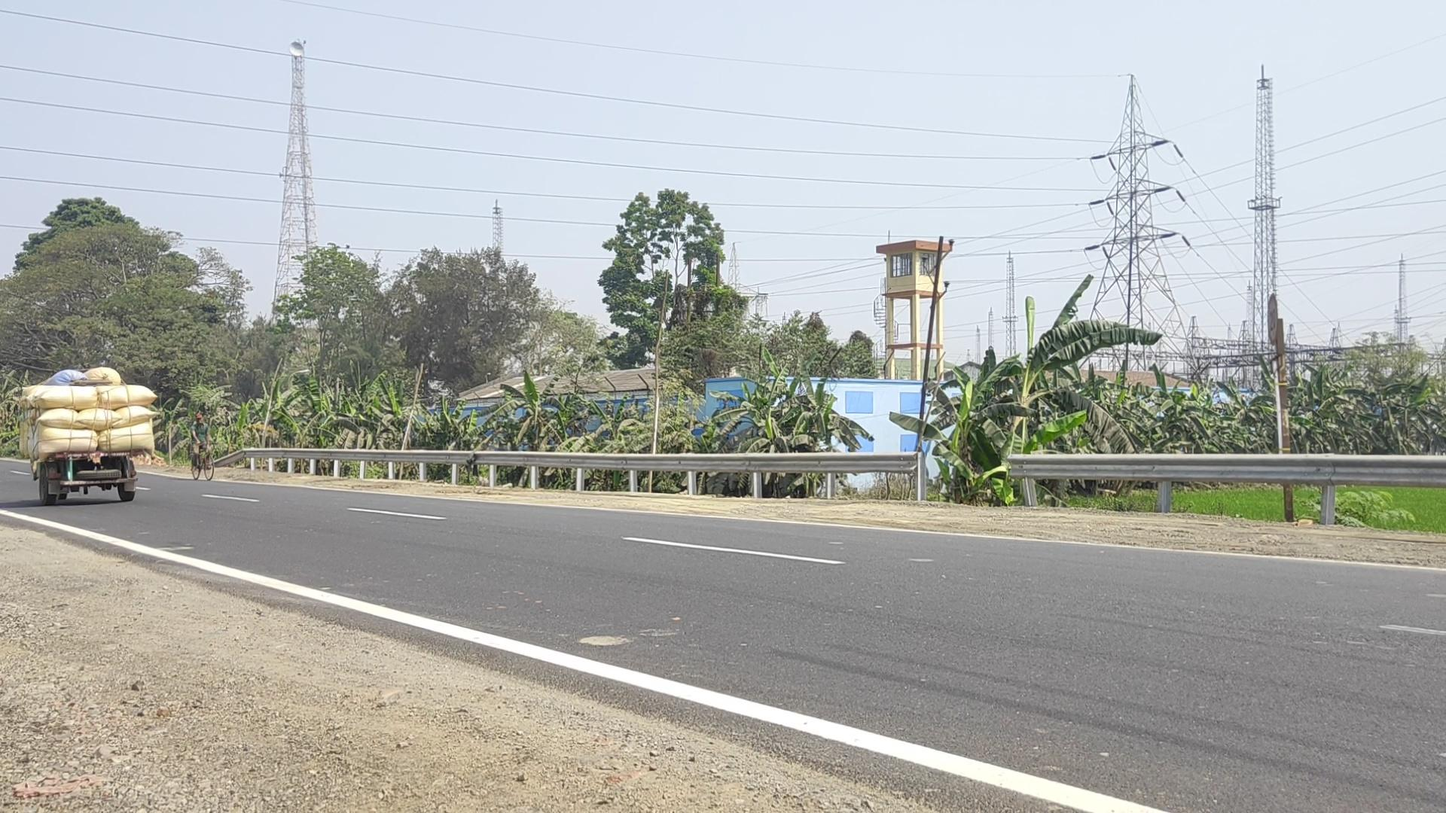bike: (190, 413, 215, 481)
